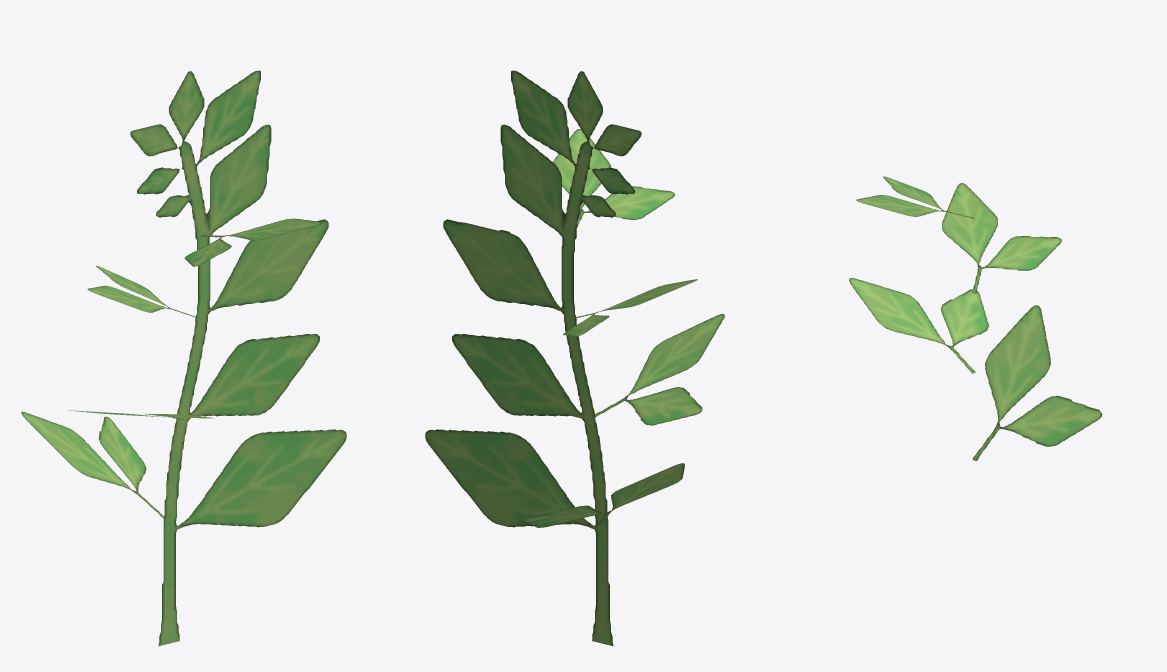
File: LeafSetF_10.fbx
3 renders of one model, left to right at view 1: azimuth 30°, elevation 25°; view 2: azimuth 150°, elevation 25°; view 3: azimuth 270°, elevation 25°, orthographic. The views are drawn at different scales.
Parts seen in each view (by area): view 1: LeafSetF_10; view 2: LeafSetF_10; view 3: LeafSetF_10.
Boxes of the visible parts, left/top/right/bottom form: LeafSetF_10: left=21, top=70, right=346, bottom=646; LeafSetF_10: left=425, top=70, right=724, bottom=645; LeafSetF_10: left=849, top=176, right=1102, bottom=460.
Bounding box in the file's own units: 0.5218 × 0.8208 × 0.4789.
